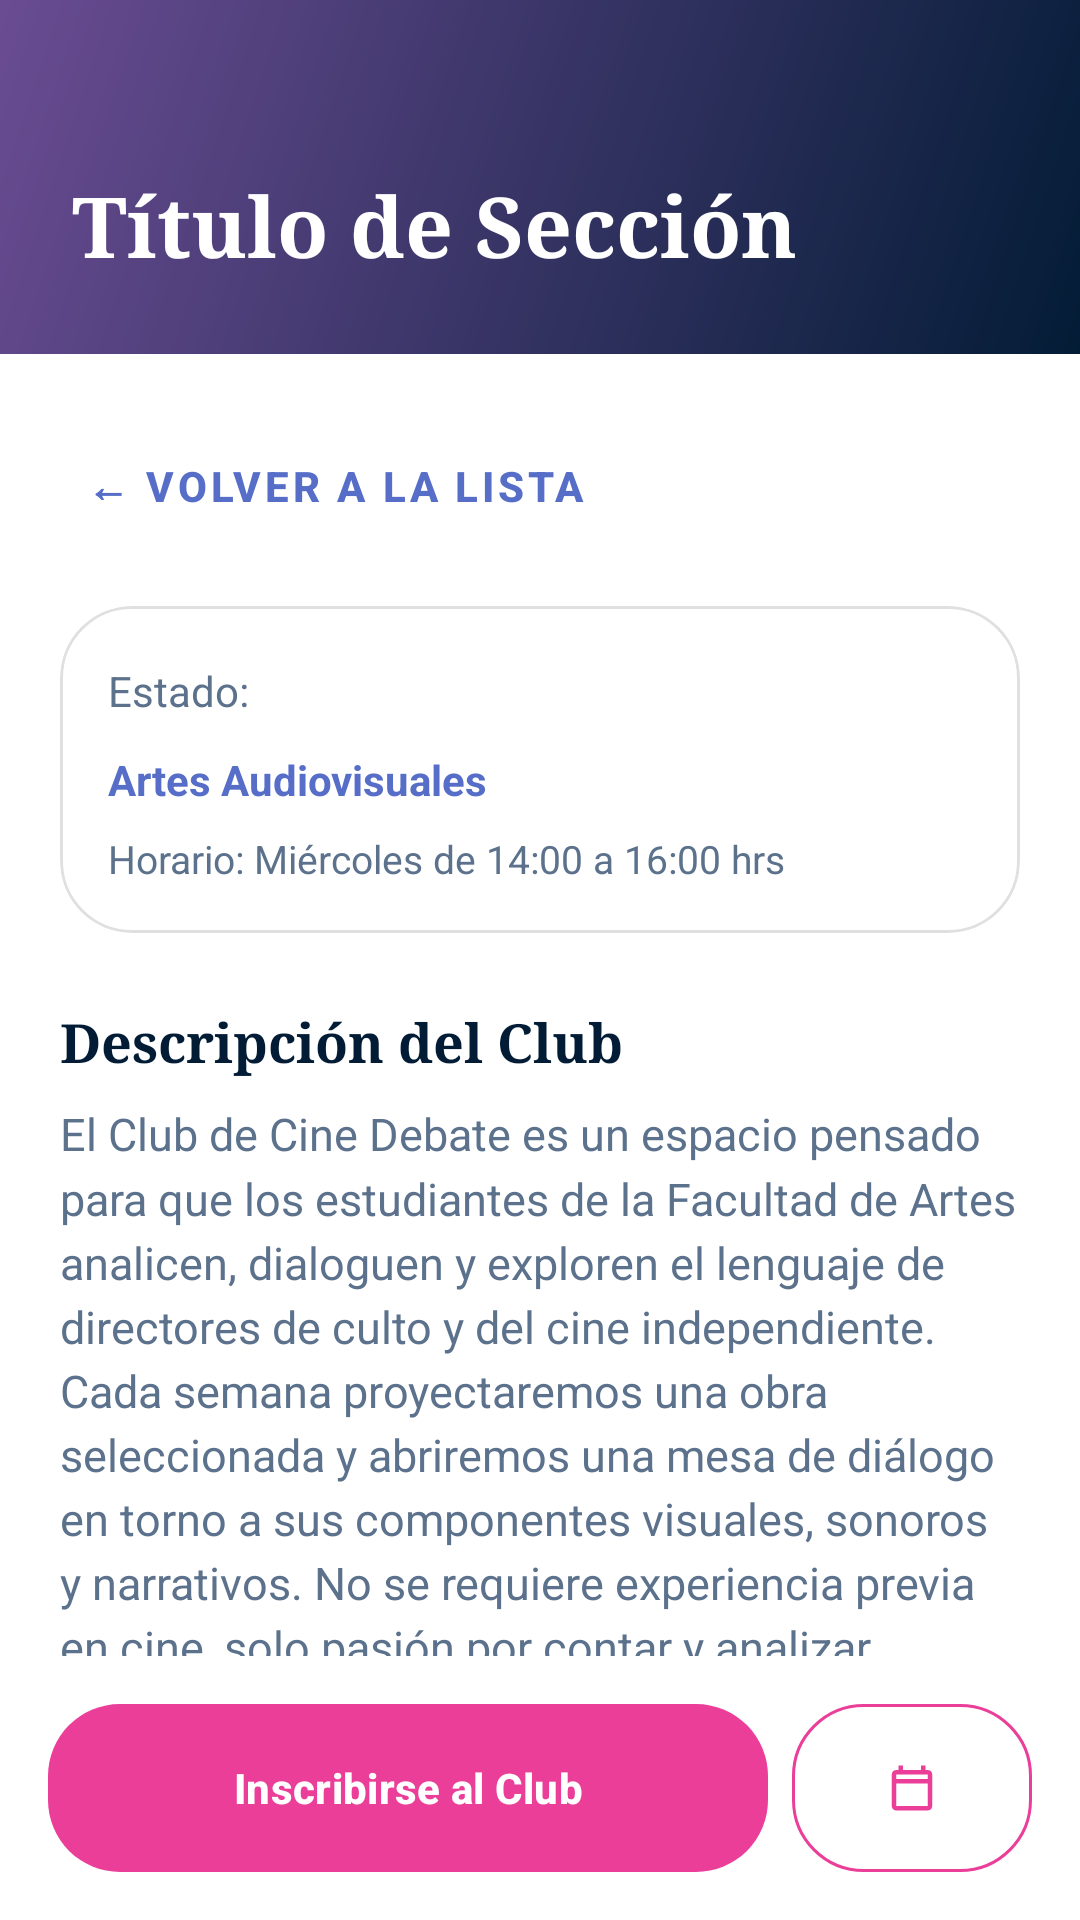

Where to tap for icons on this 1080*1920 app screen, as [x,y]:
calendar: [912,1788]
